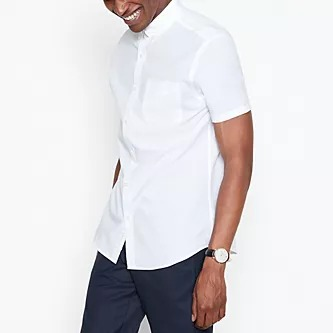C_shirt: (95, 1, 253, 272)
